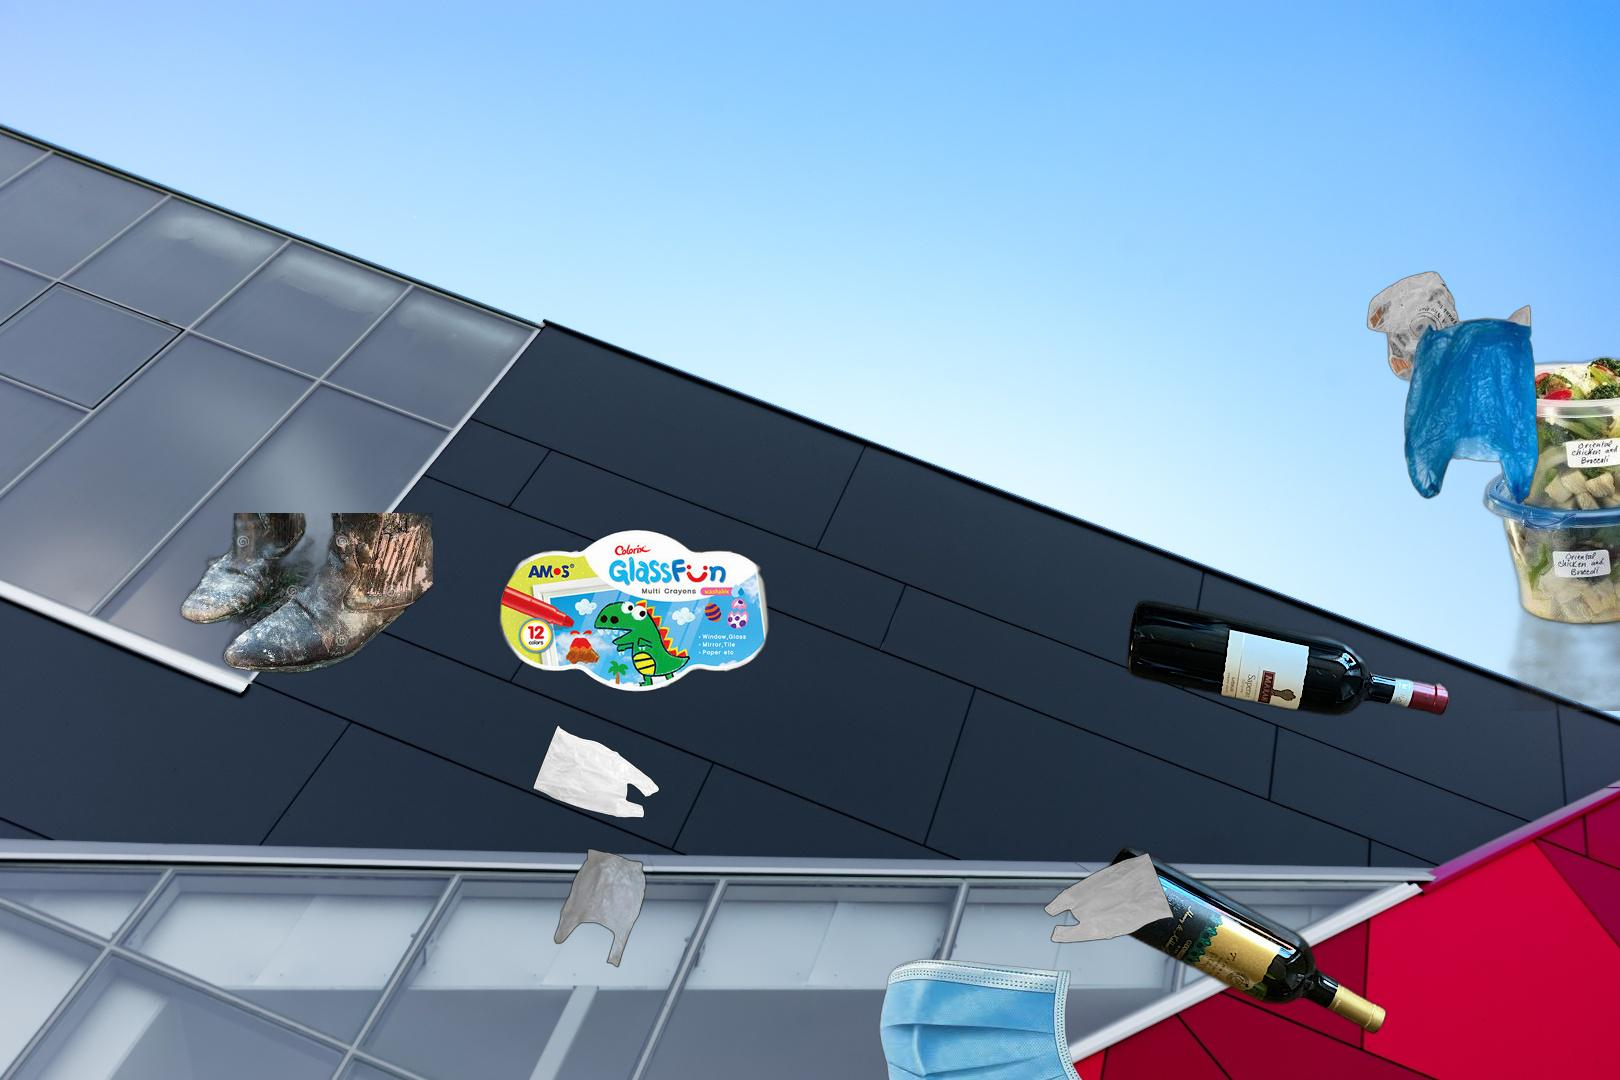biological: (1433, 354, 1620, 711)
glass: (1100, 595, 1452, 1040)
penholder: (469, 471, 775, 695)
plastic-bag: (1366, 270, 1542, 507), (532, 723, 662, 970), (1041, 850, 1176, 946)
shoes: (174, 513, 433, 676)
trash: (879, 956, 1128, 1080)
